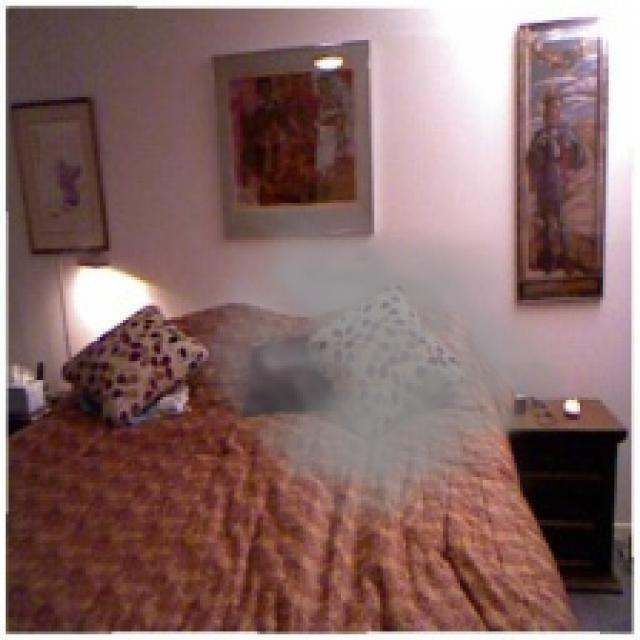Smoke: (171, 208, 586, 560)
